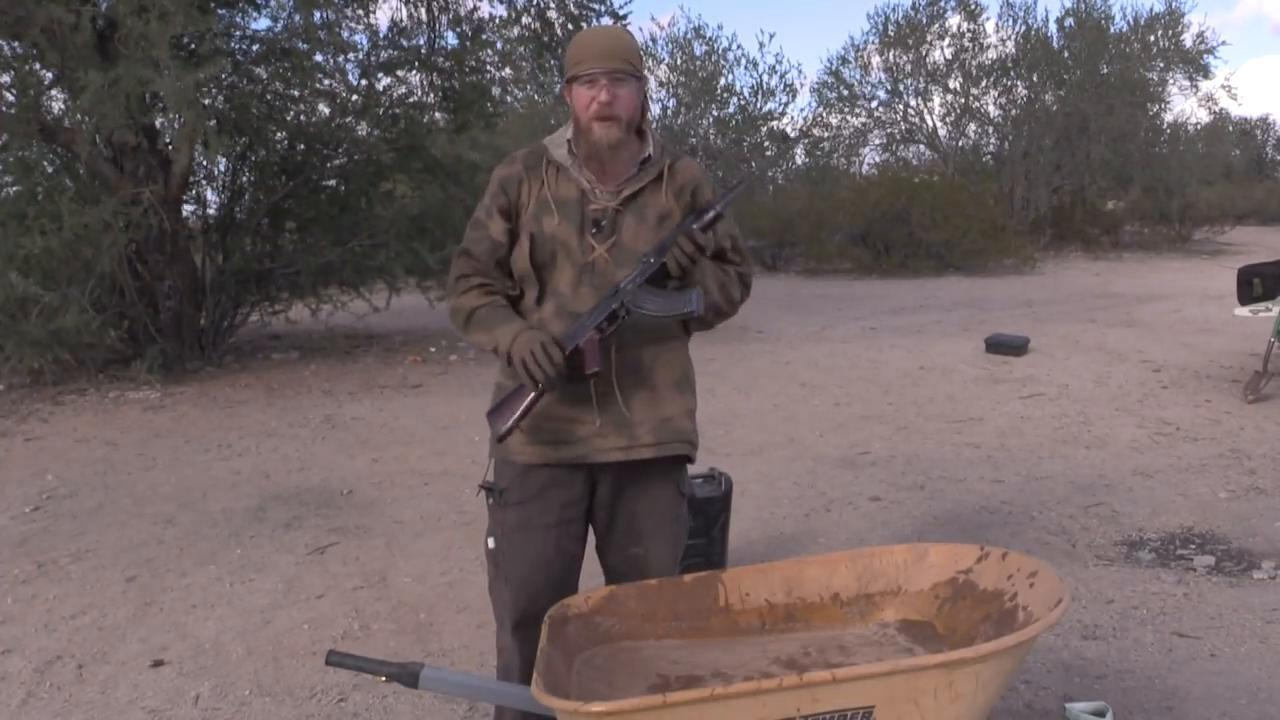AK47 Rifle: (480, 178, 752, 449)
